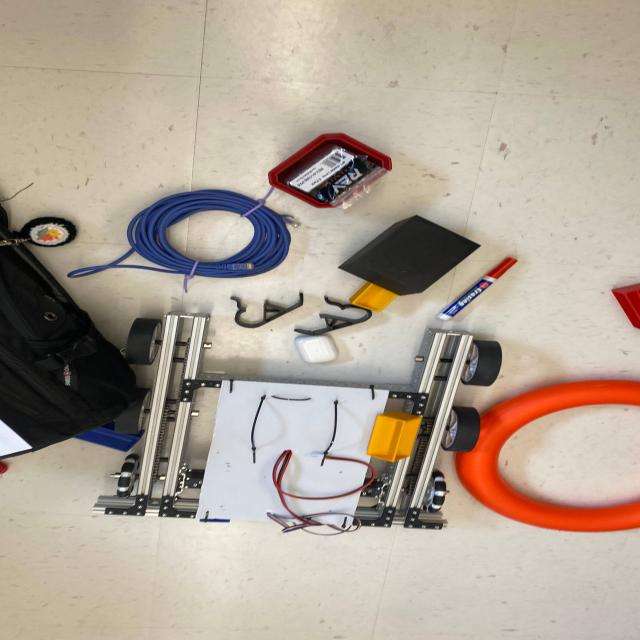blue-specimen: (75, 427, 140, 452), (350, 282, 397, 312)
red-specimen: (612, 283, 640, 328)
yellow-specimen: (367, 411, 422, 462)
